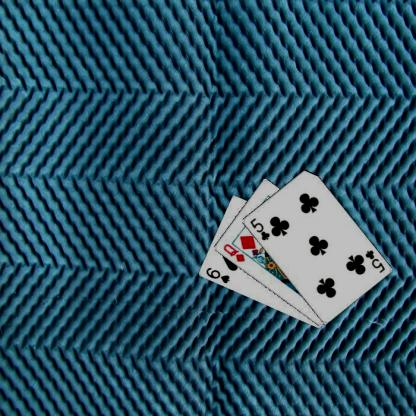5C: (247, 215, 271, 242), (362, 247, 386, 274)
6S: (203, 265, 231, 285)
QD: (221, 242, 245, 264)
